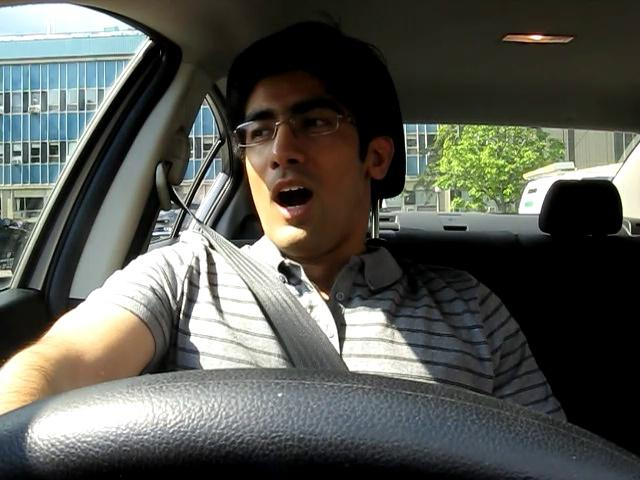open_eyeL: (239, 116, 285, 145)
open_eyeR: (287, 105, 349, 141)
yawn: (258, 173, 333, 222)
